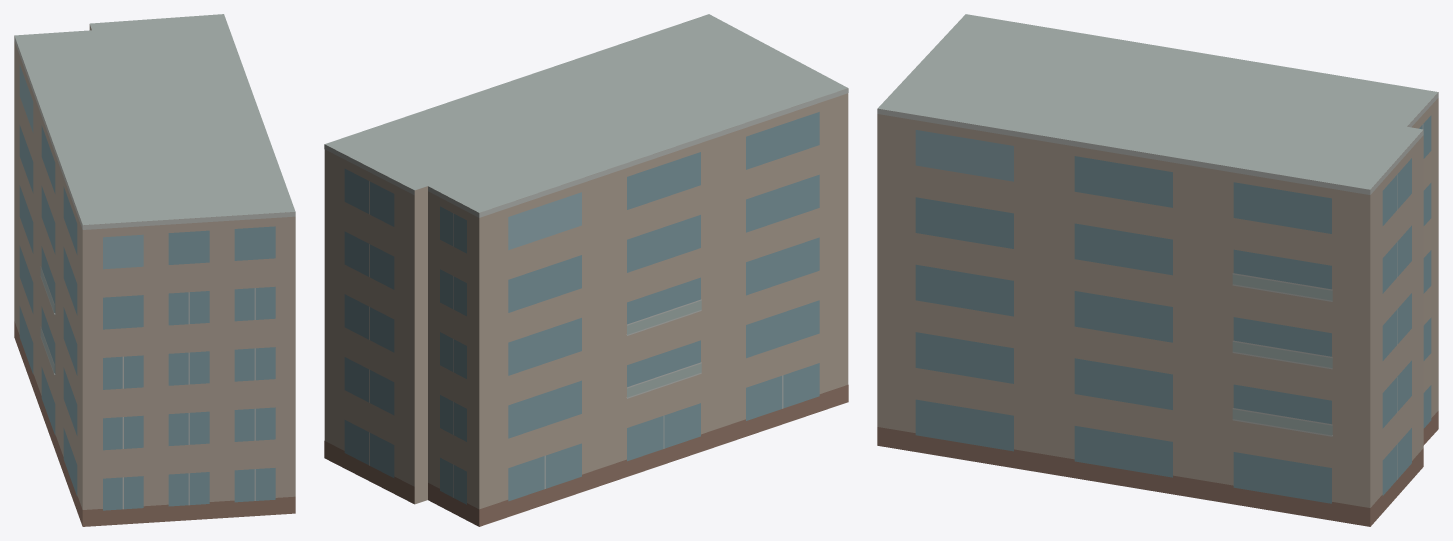
File: survey-upis-32753035.glb
The picture shows the model from 3 angles, left to right: view 1: azimuth 30°, elevation 25°; view 2: azimuth 150°, elevation 25°; view 3: azimuth 270°, elevation 25°; orthographic projection. The views are drawn at different scales.
Visible parts, largest first — view 1: survey-upis-32753035.tmp; view 2: survey-upis-32753035.tmp; view 3: survey-upis-32753035.tmp.
Boxes of the visible parts, x1,y1,x2,y2 form: survey-upis-32753035.tmp: (14, 14, 295, 526); survey-upis-32753035.tmp: (324, 14, 848, 526); survey-upis-32753035.tmp: (877, 14, 1438, 526).
Bounding box in the file's own units: 17.06 × 15.25 × 23.01.
